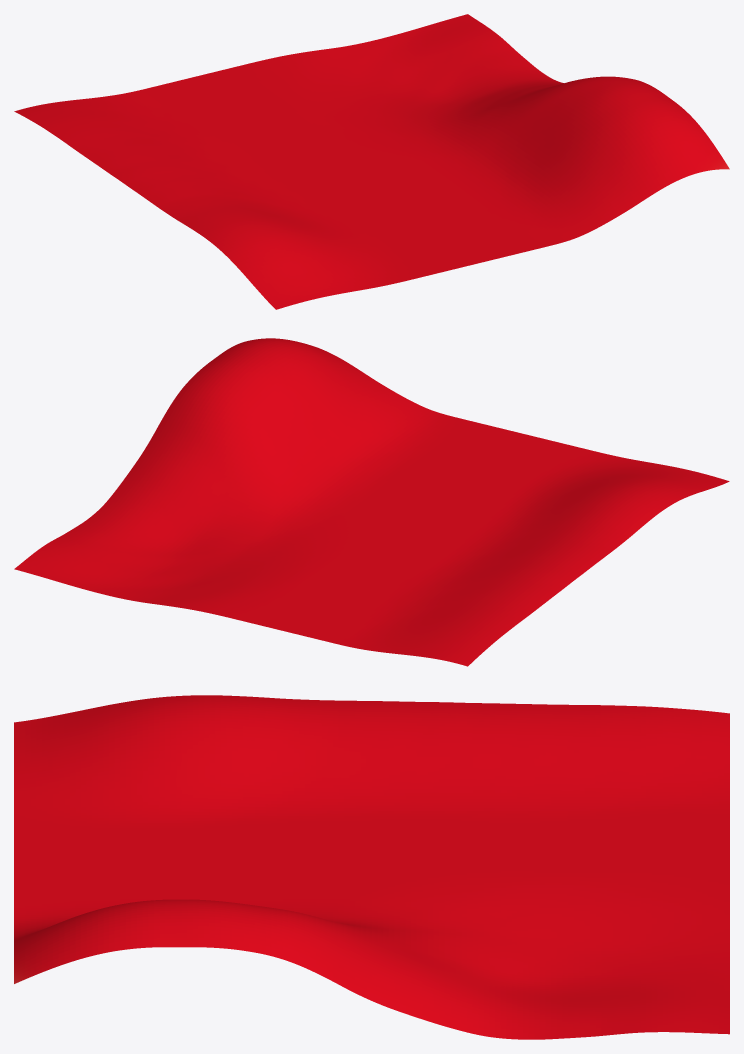
The model's file is terr2_flat.glb.
3 views of the same model, one above another, from view 1: azimuth 30°, elevation 25°; view 2: azimuth 150°, elevation 25°; view 3: azimuth 270°, elevation 25° (orthographic). The views are drawn at different scales.
Visible parts, largest first — view 1: Grid.004; view 2: Grid.004; view 3: Grid.004.
Part boxes in pixels (left/top/right/bottom): Grid.004: left=14, top=14, right=729, bottom=309; Grid.004: left=14, top=338, right=729, bottom=666; Grid.004: left=14, top=695, right=729, bottom=1039.
Size of the model in its own units: 128 by 22.17 by 128.
